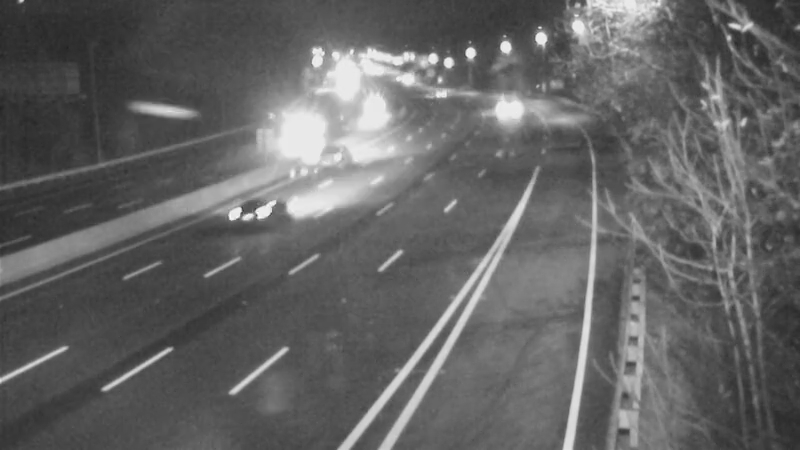vehicle: (283, 122, 363, 202), (204, 177, 284, 257), (481, 81, 531, 131), (417, 68, 467, 118), (270, 116, 320, 166), (348, 87, 398, 137)
